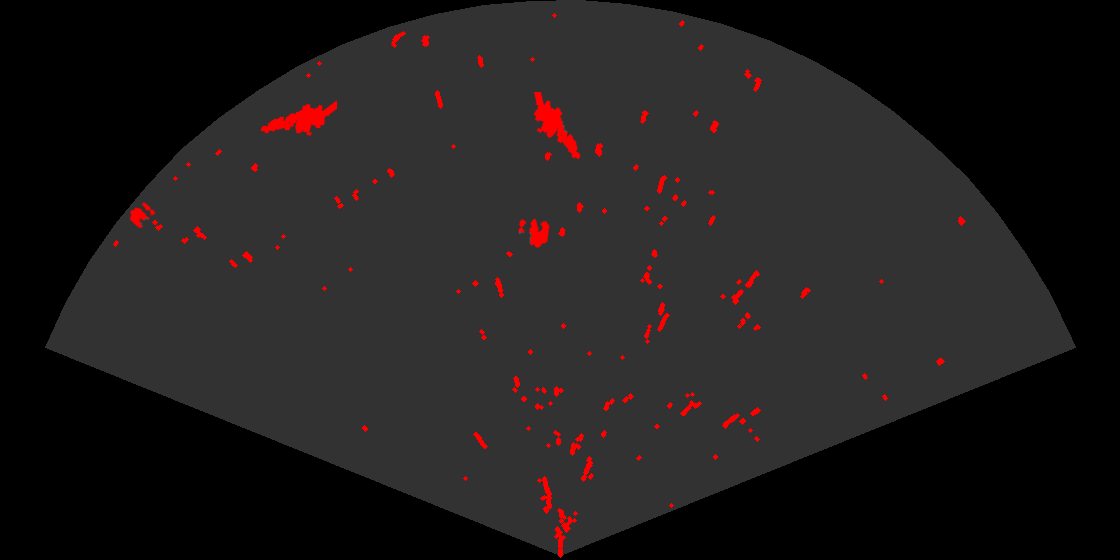ball: (517, 217, 551, 249), (128, 201, 157, 230)
frogman: (532, 92, 582, 161), (259, 99, 337, 137)
